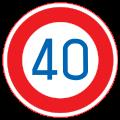Speed limit -40-: (30, 35, 90, 85)
